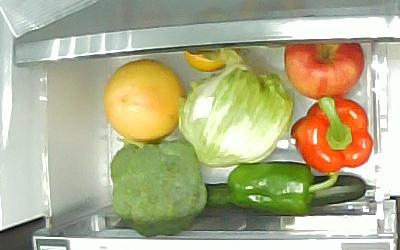apple: (284, 42, 364, 100)
broccoli: (109, 136, 207, 237)
cucumber: (204, 174, 377, 209)
grapefruit: (104, 59, 186, 142)
lettuce: (178, 63, 293, 167)
paprika: (290, 96, 374, 173), (227, 162, 337, 217)
persimmon: (183, 47, 240, 72)
